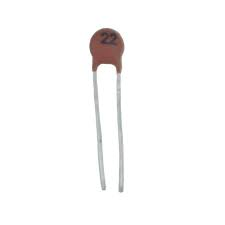ceramic capacitor: (60, 16, 169, 120)
